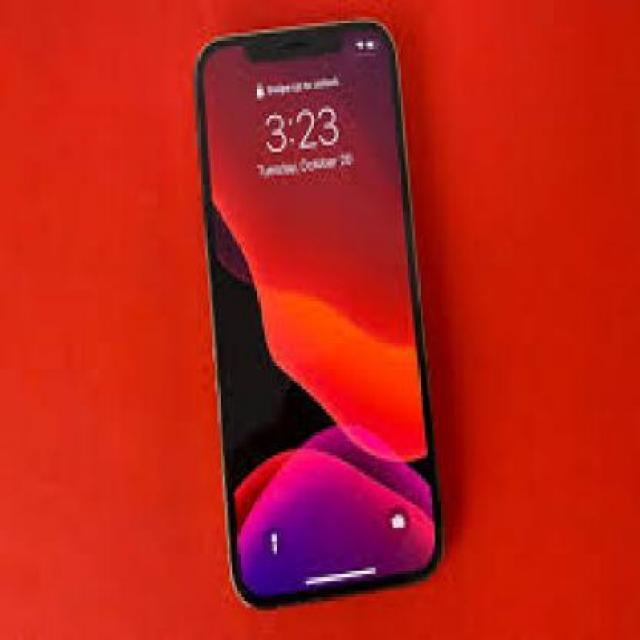phone: (195, 20, 443, 611)
